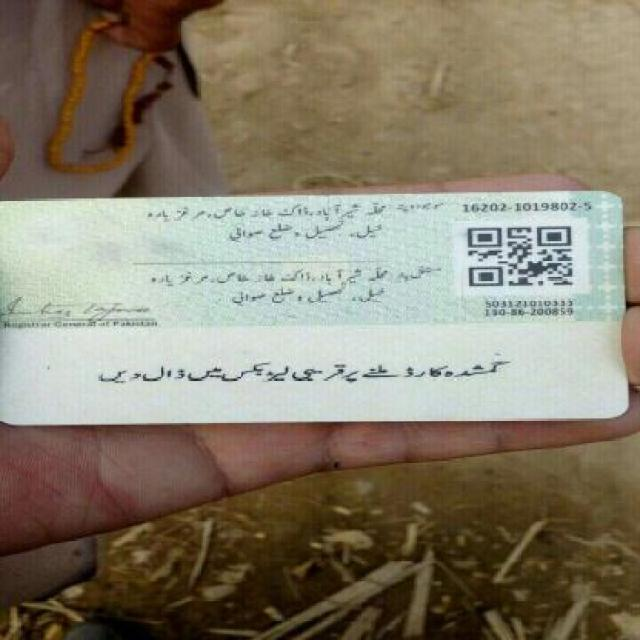Back: (8, 192, 629, 422)
